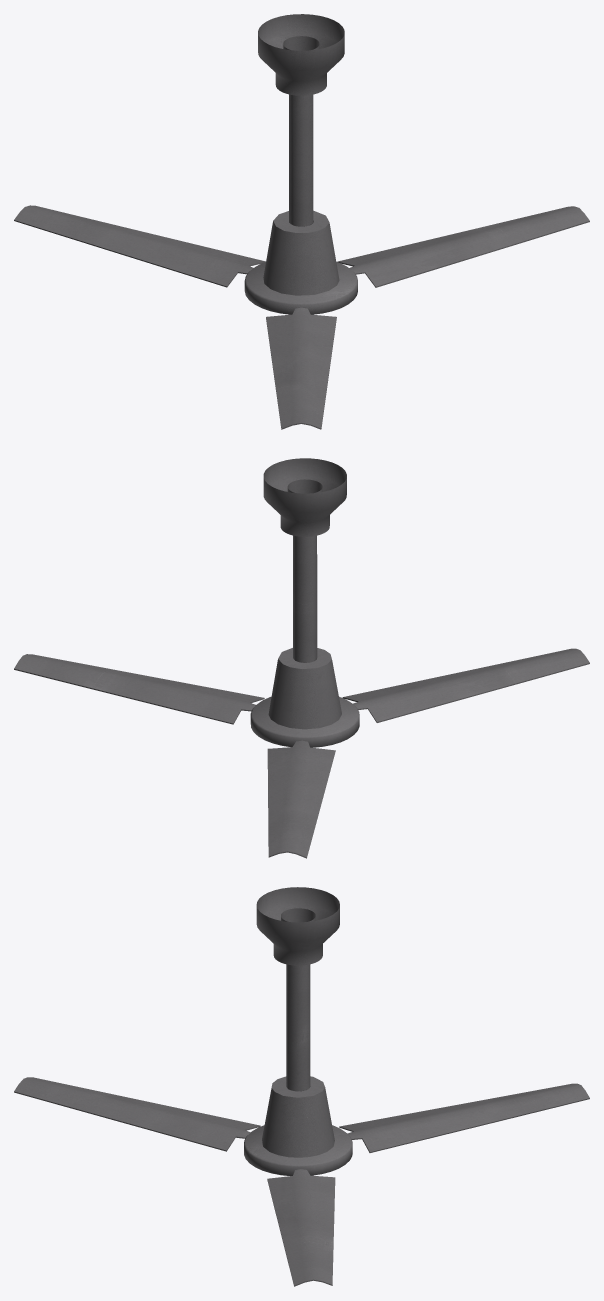
File: Ceiling Fan Free 3D Model.glb
The picture shows the model from 3 angles, top to bottom: view 1: azimuth 30°, elevation 25°; view 2: azimuth 150°, elevation 25°; view 3: azimuth 270°, elevation 25°; orthographic projection. The views are drawn at different scales.
Parts seen in each view (by area): view 1: 3_Metal_0; view 2: 3_Metal_0; view 3: 3_Metal_0.
Part boxes in pixels (x1=…): 3_Metal_0: x1=14, y1=14, x2=589, y2=429; 3_Metal_0: x1=14, y1=458, x2=589, y2=858; 3_Metal_0: x1=14, y1=887, x2=589, y2=1286.
Size of the model in its own units: 3.94 by 2.27 by 4.6.
2 materials, 1 textured.
